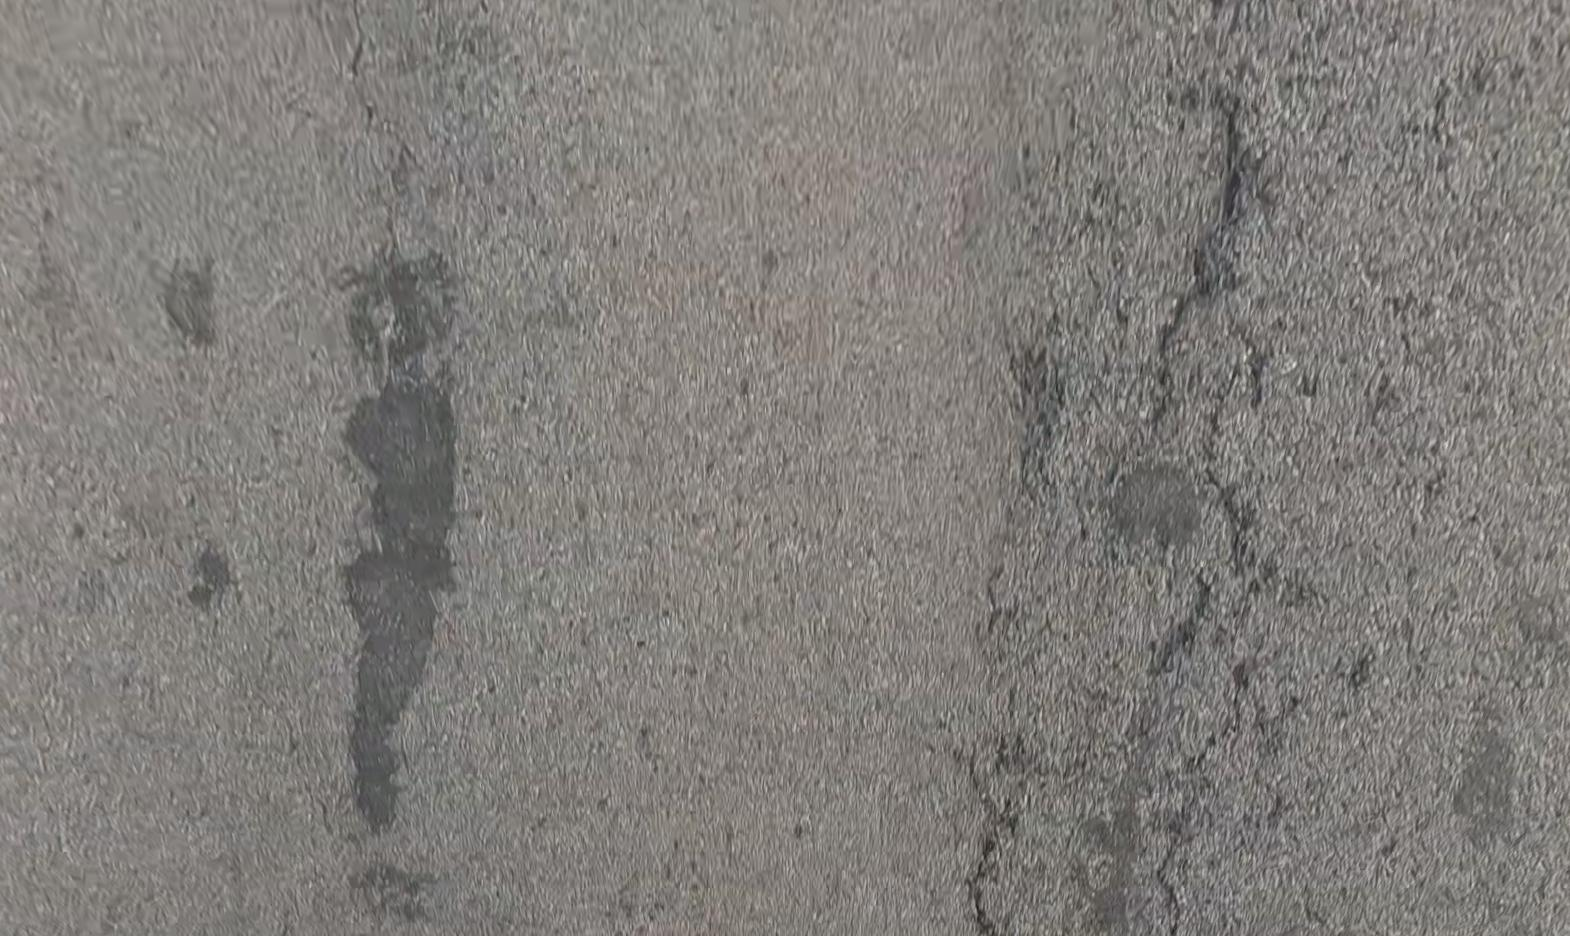pothole_patch_good: (330, 257, 460, 827), (1094, 442, 1206, 542)
